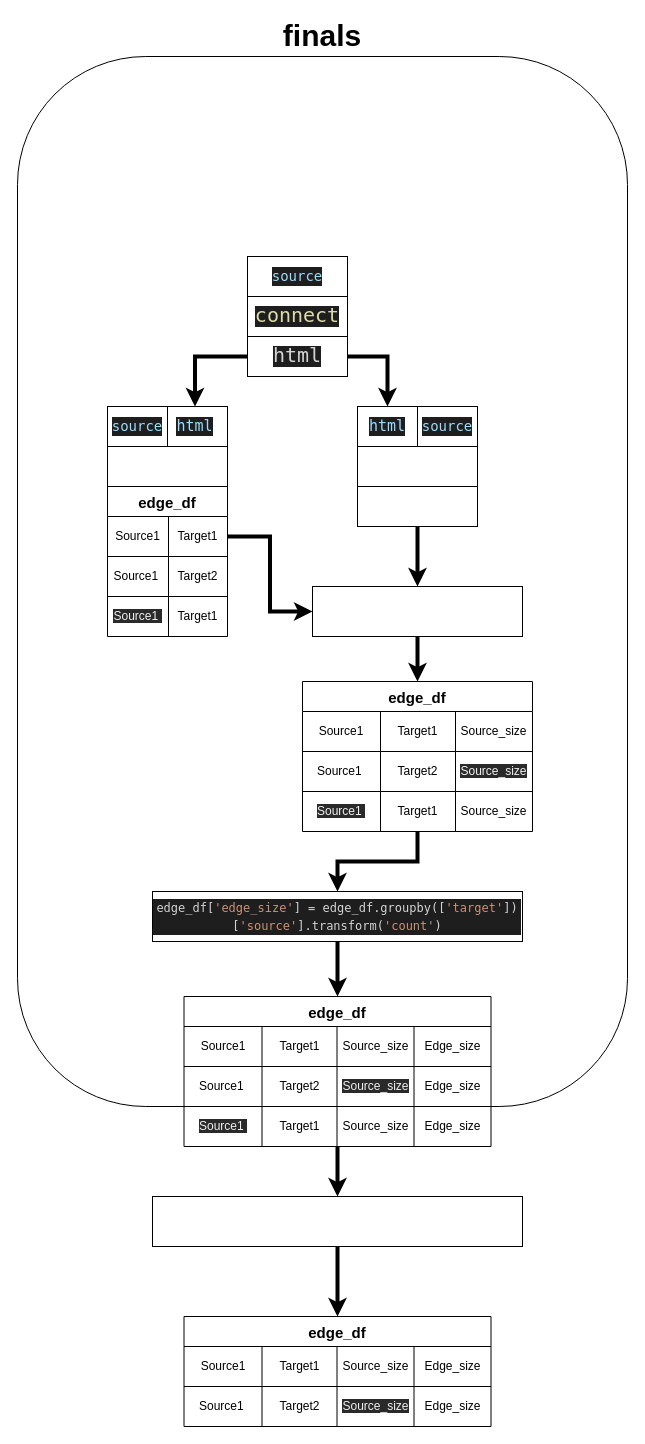
This 645x1444 diagram has some shape labels left out. The centre of each missing label's shape, as x and y in pixels:
"edge_df = edge_df.drop_duplicates( subset =[ 'target' ])" belongs at pixel 337 1221.
"edge_df[ 'source_node_size' ] = size" belongs at pixel 417 611.
"size" belongs at pixel 417 506.
"subs" belongs at pixel 417 466.
"targets" belongs at pixel 167 466.
